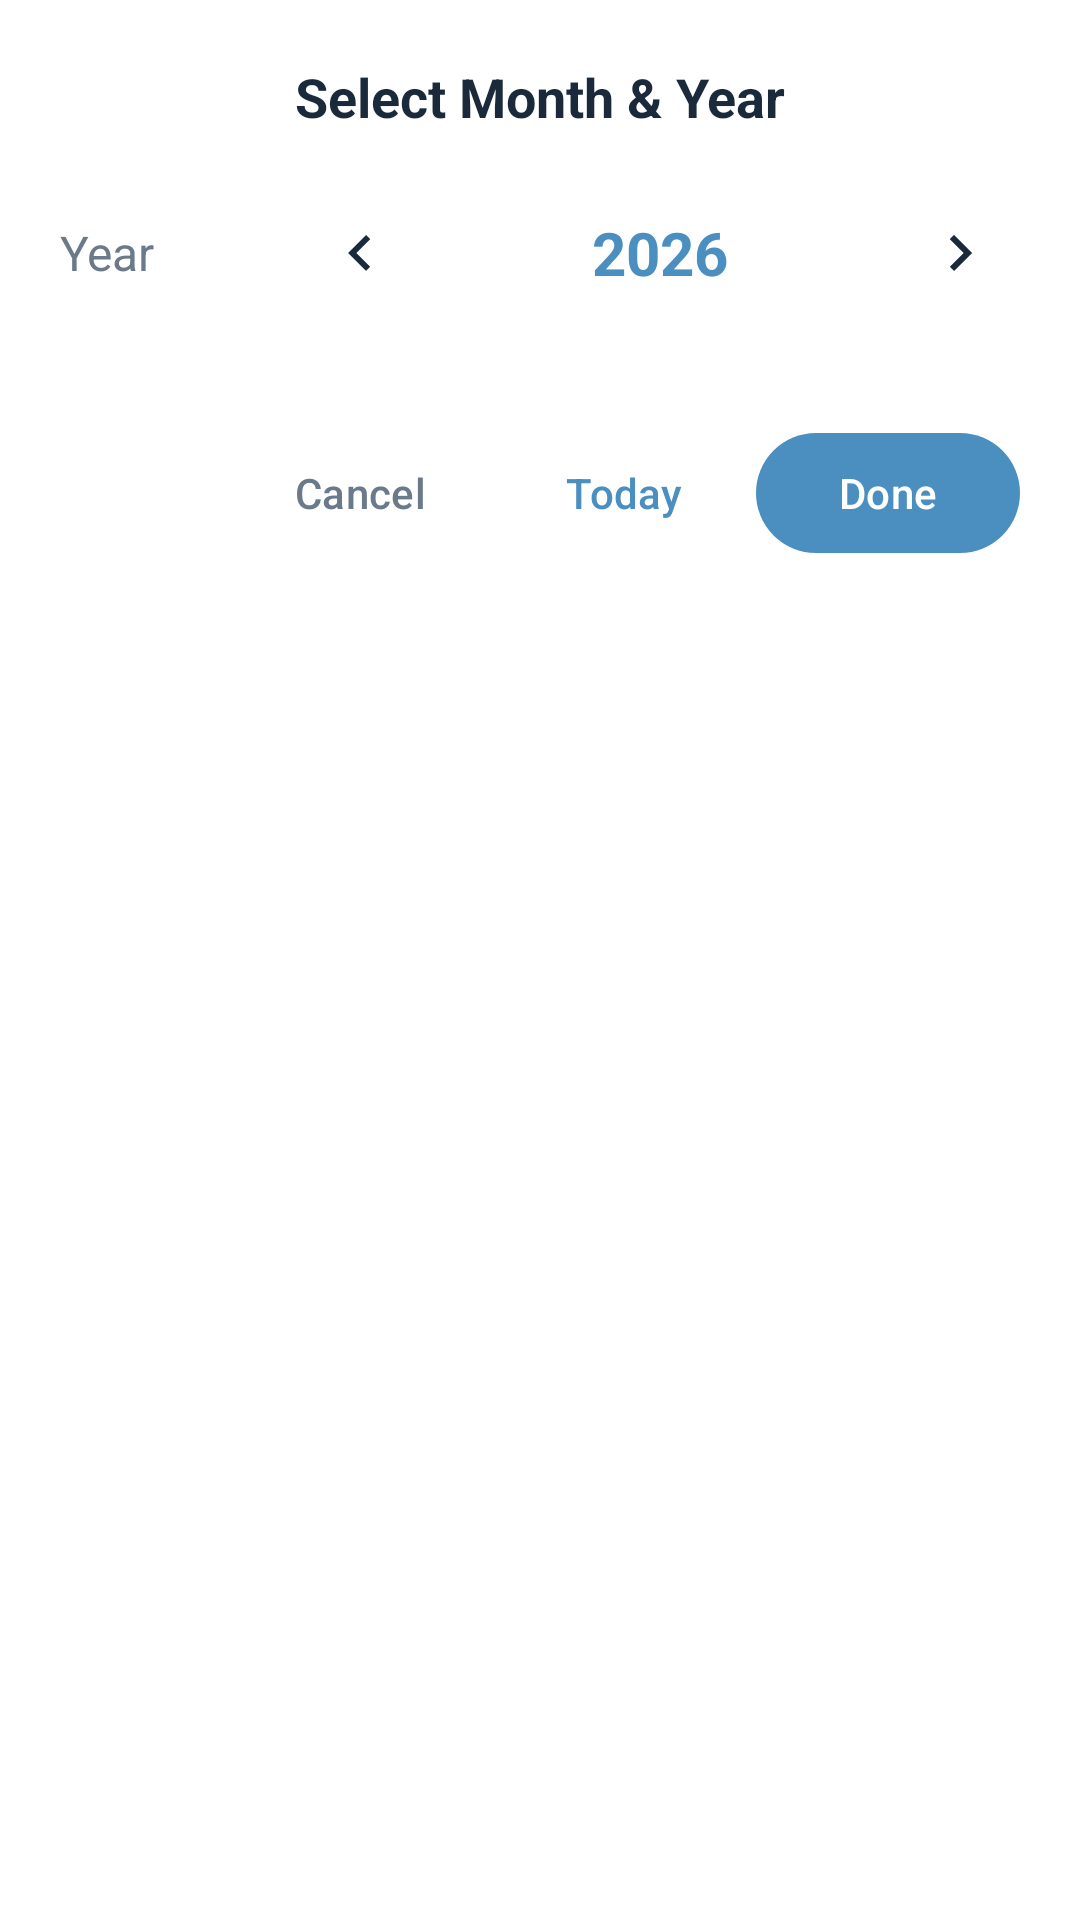

Icons on this 1080 x 1920 Android screen, each with its box as [x1=x1, y1=y1, x2=x2, y2=y2]:
Next year: [x1=950, y1=235, x2=972, y2=271]
